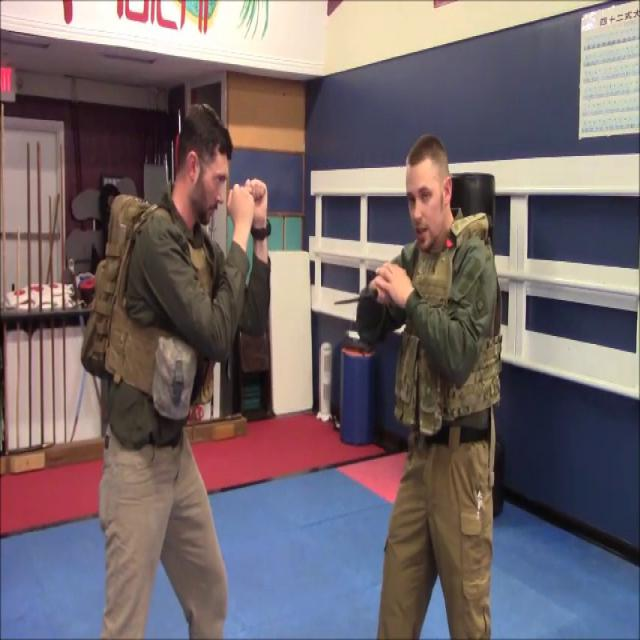knife: (328, 288, 386, 317)
